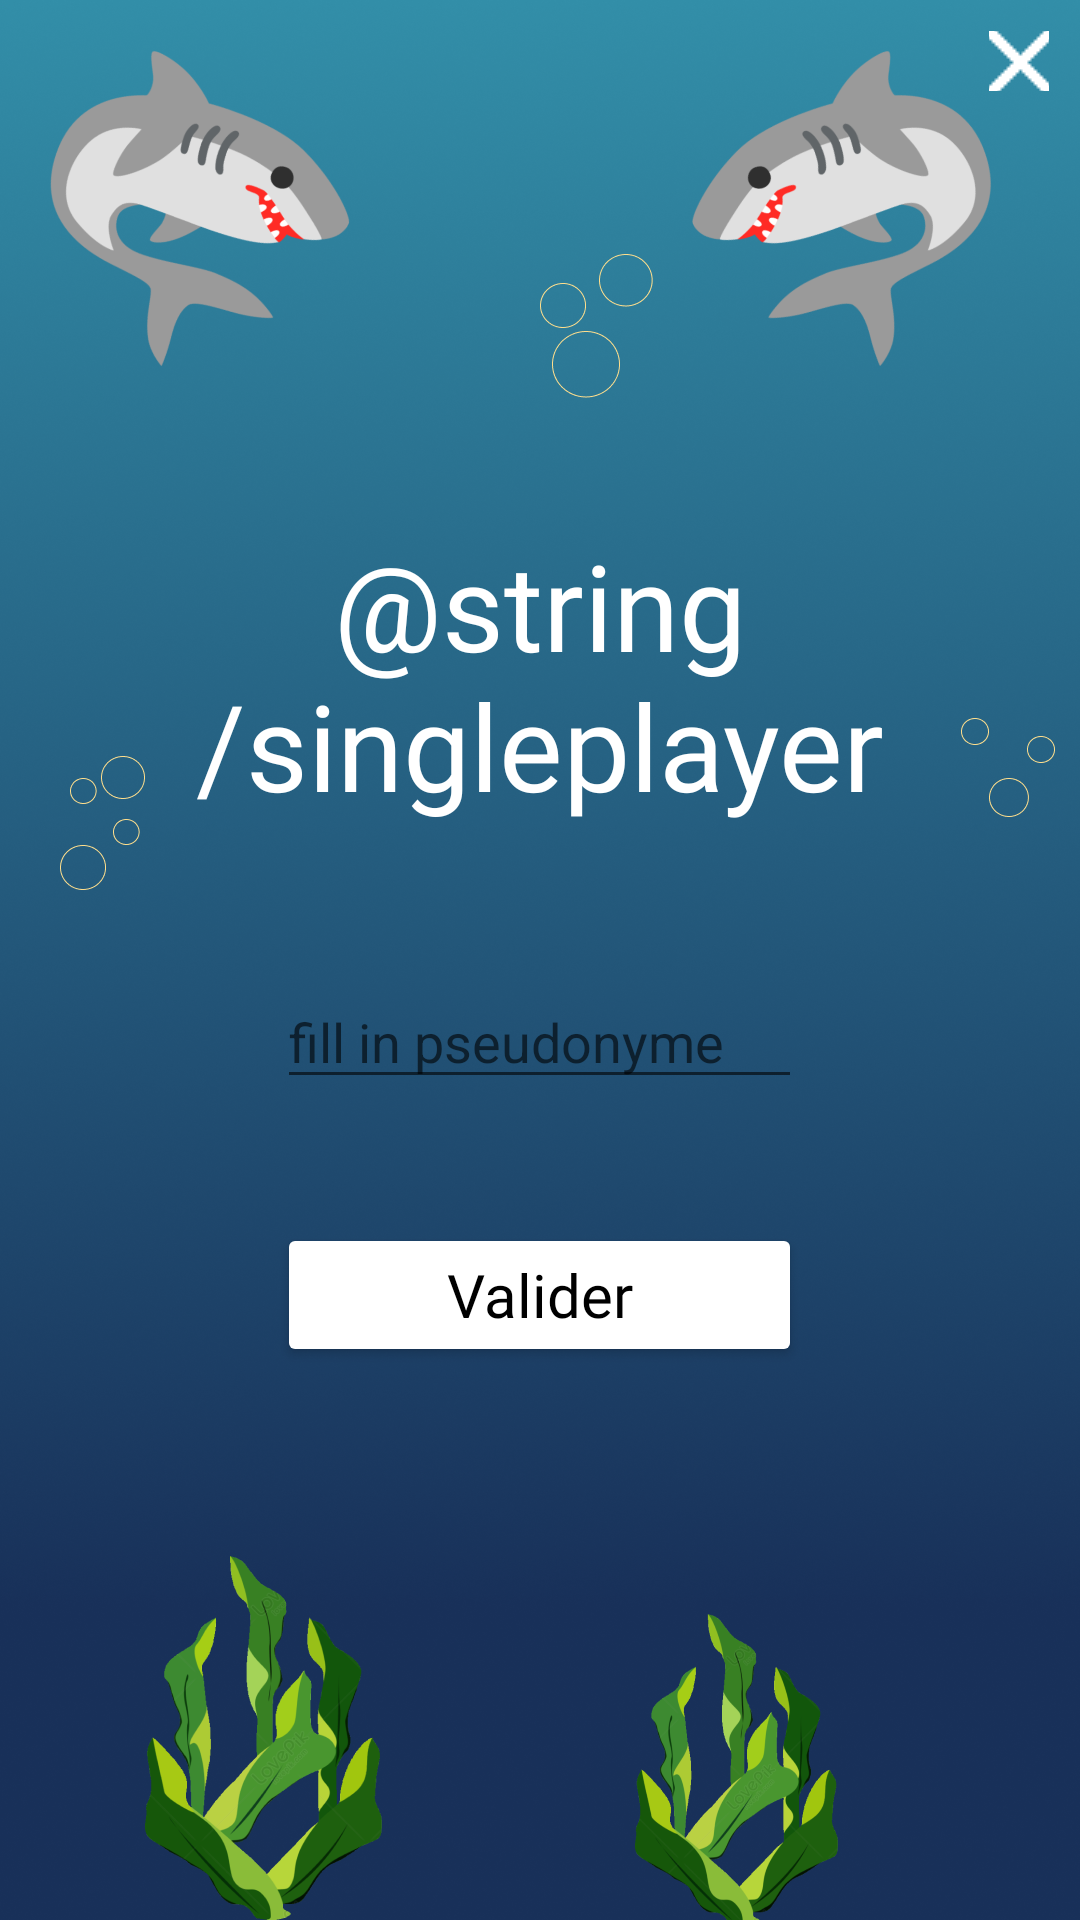

Screen size 1080 x 1920. Icon name, then its center in pixels as point (x, y):
exit: point (1019, 61)
